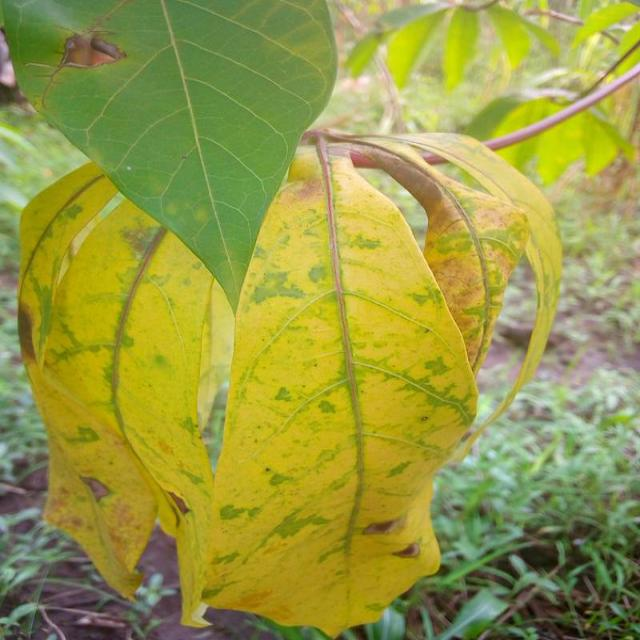cassava leaf: (15, 123, 561, 636), (199, 141, 480, 636), (1, 0, 338, 317), (16, 158, 216, 625)
